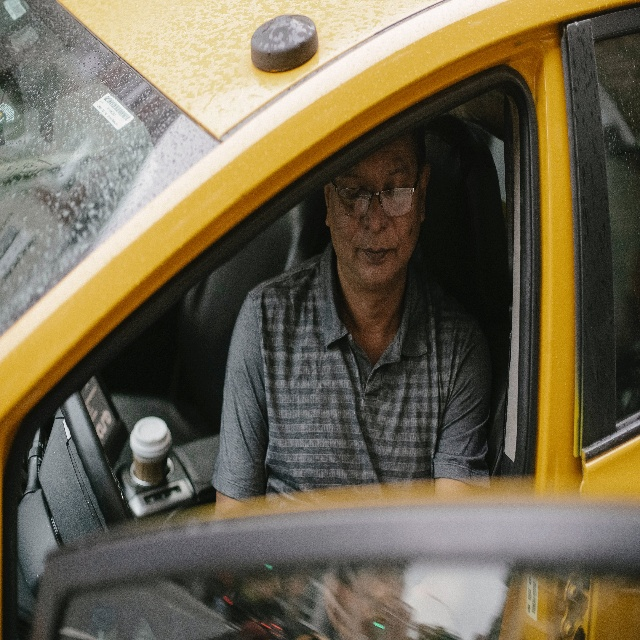Gafas: (331, 166, 423, 218)
